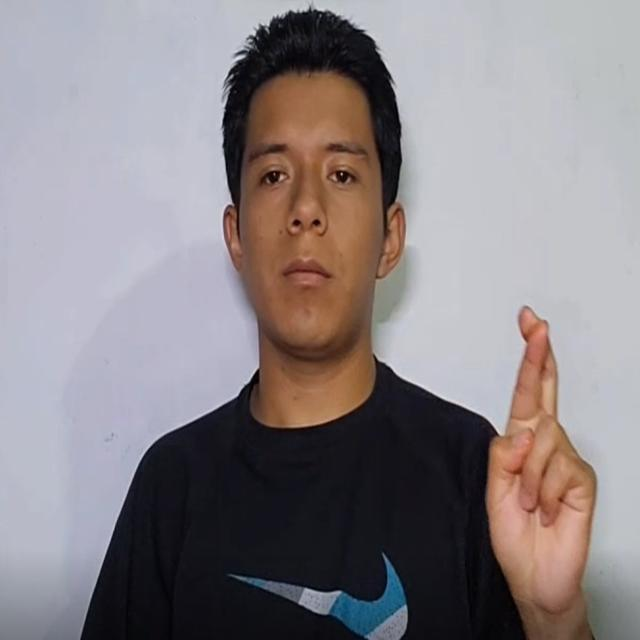R: (468, 284, 620, 620)
